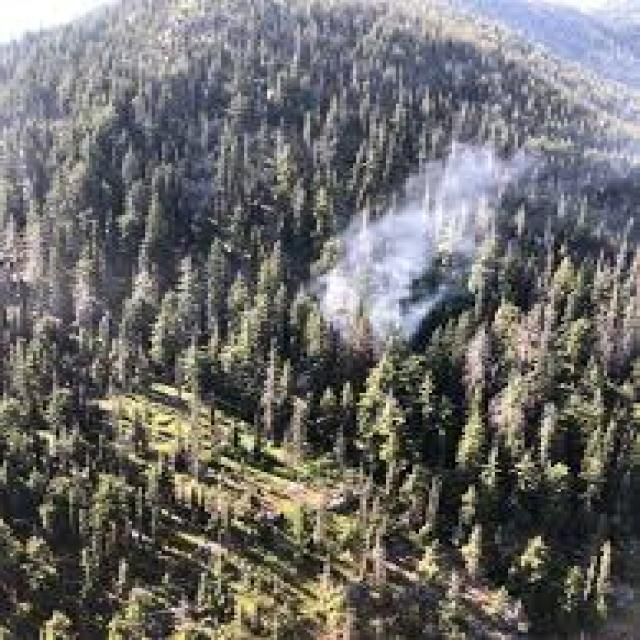Smoke: (299, 132, 561, 351)
